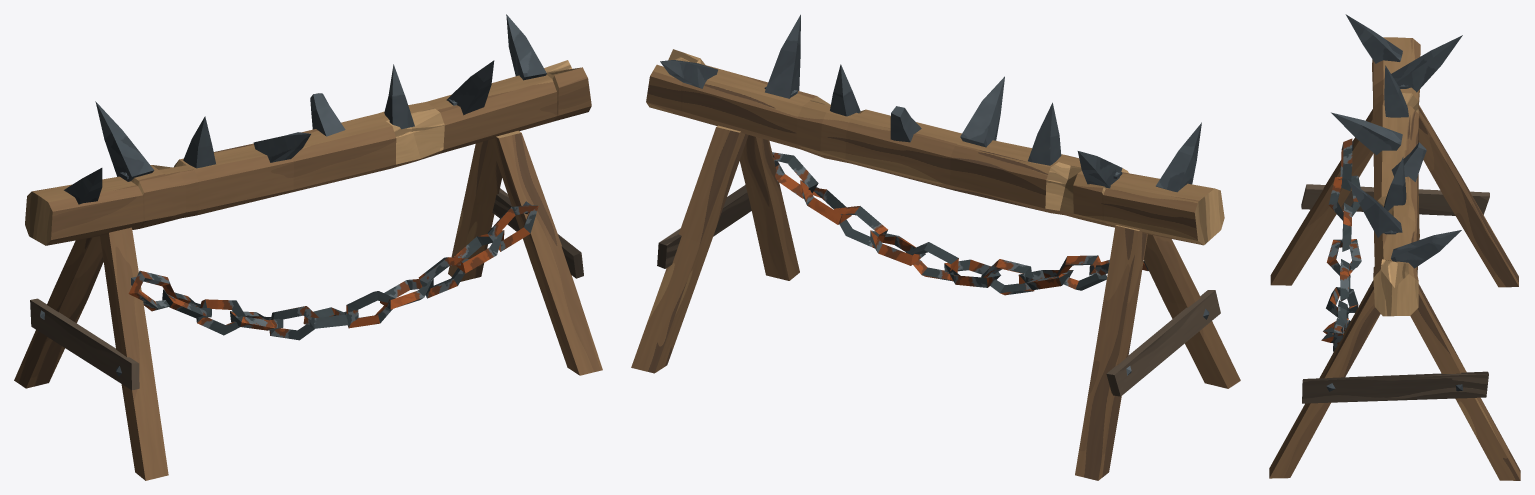
Rendered from SM_SpikedRoadBlock.fbx.
The picture shows the model from 3 angles, left to right: view 1: azimuth 30°, elevation 25°; view 2: azimuth 150°, elevation 25°; view 3: azimuth 270°, elevation 25°; orthographic projection. The views are drawn at different scales.
Parts seen in each view (by area): view 1: SM_SpikedRoadBlock; view 2: SM_SpikedRoadBlock; view 3: SM_SpikedRoadBlock.
Boxes of the visible parts, left/top/right/bottom form: SM_SpikedRoadBlock: left=14, top=14, right=602, bottom=480; SM_SpikedRoadBlock: left=631, top=14, right=1240, bottom=480; SM_SpikedRoadBlock: left=1269, top=14, right=1520, bottom=480.
Size of the model in its own units: 2.02 by 1.05 by 0.8834.
